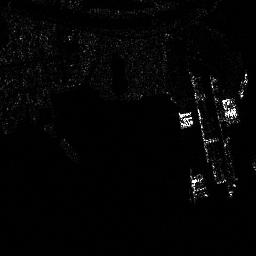ship: (237, 70, 248, 98)
